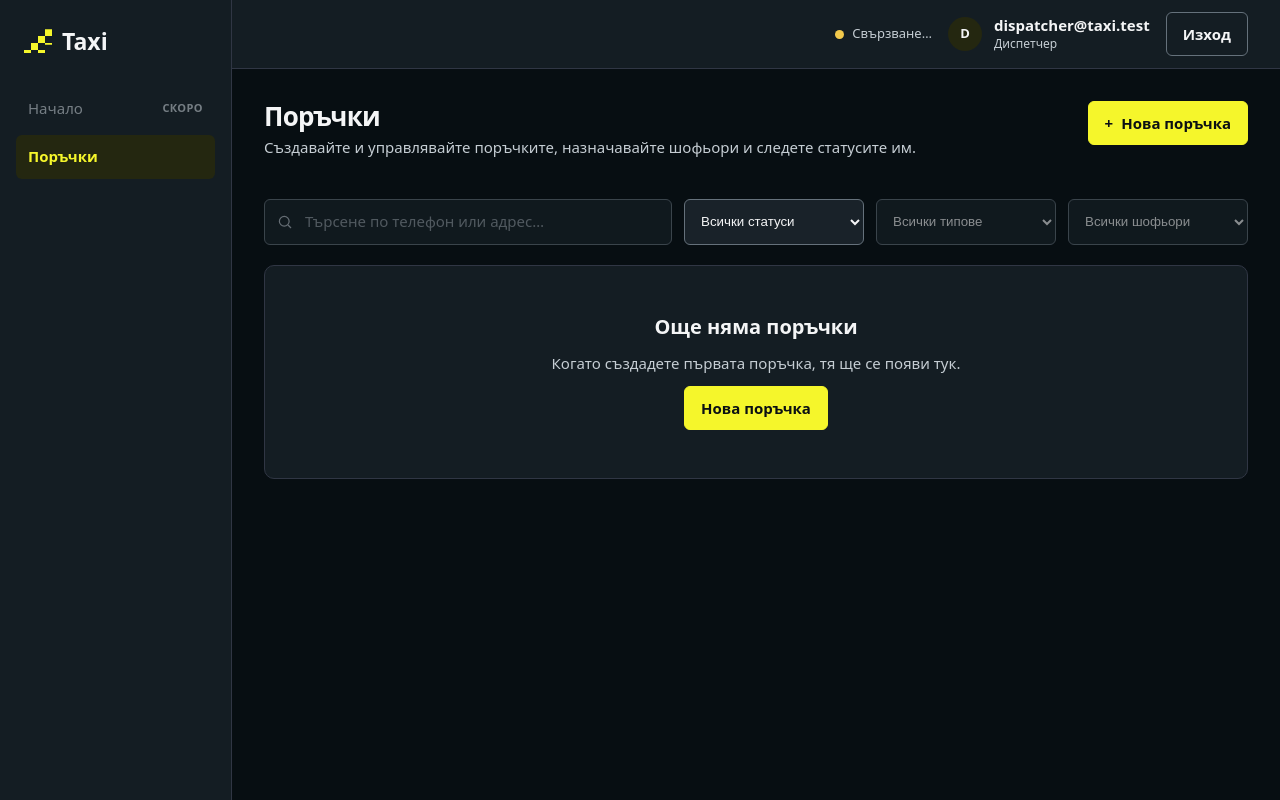
Test: RidesPage (mocked ride port, not live integration) › list › shows the empty state and opens the create dialog from it
Expected: the heading "Още няма поръчки" is shown, [654,314,858,340]
Click the button "Нова поръчка" at (756, 408), box [684,386,828,430]
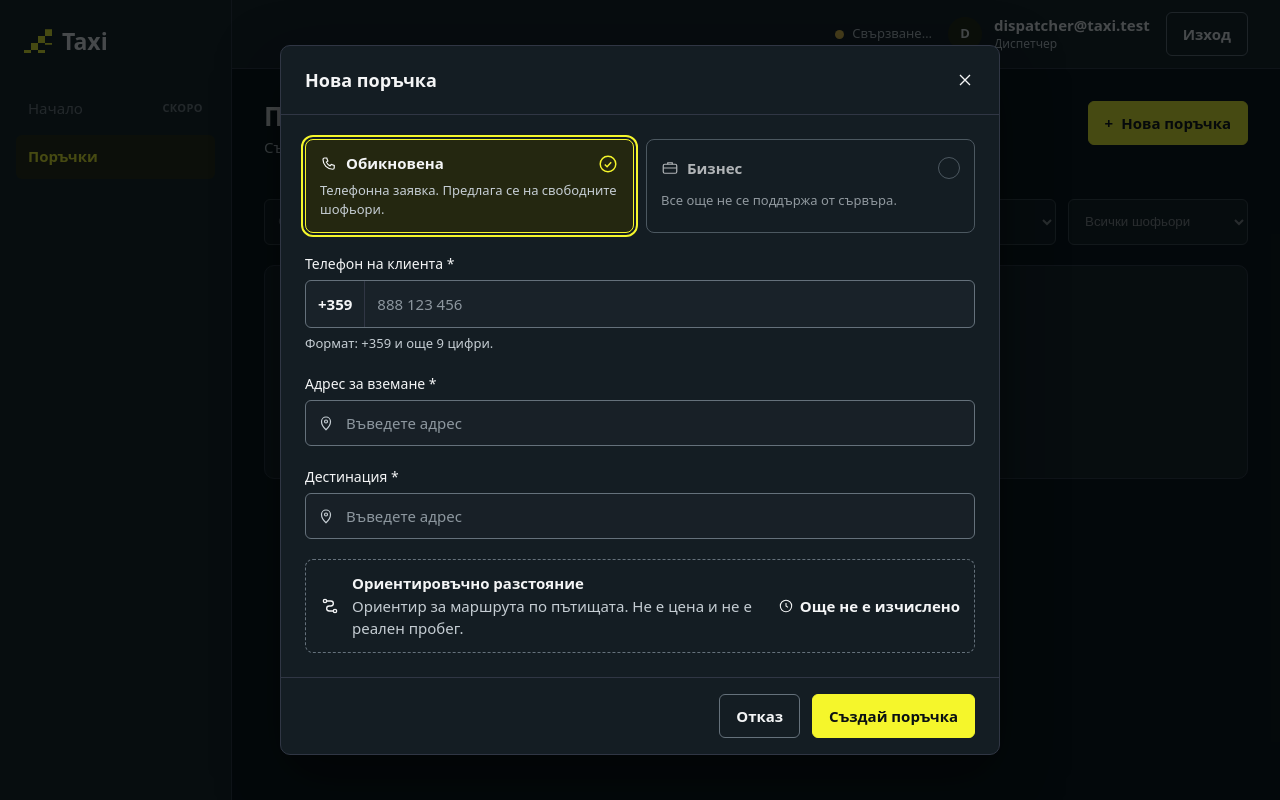
Result: the dialog "Нова поръчка" is shown at [280,45,1000,755]
